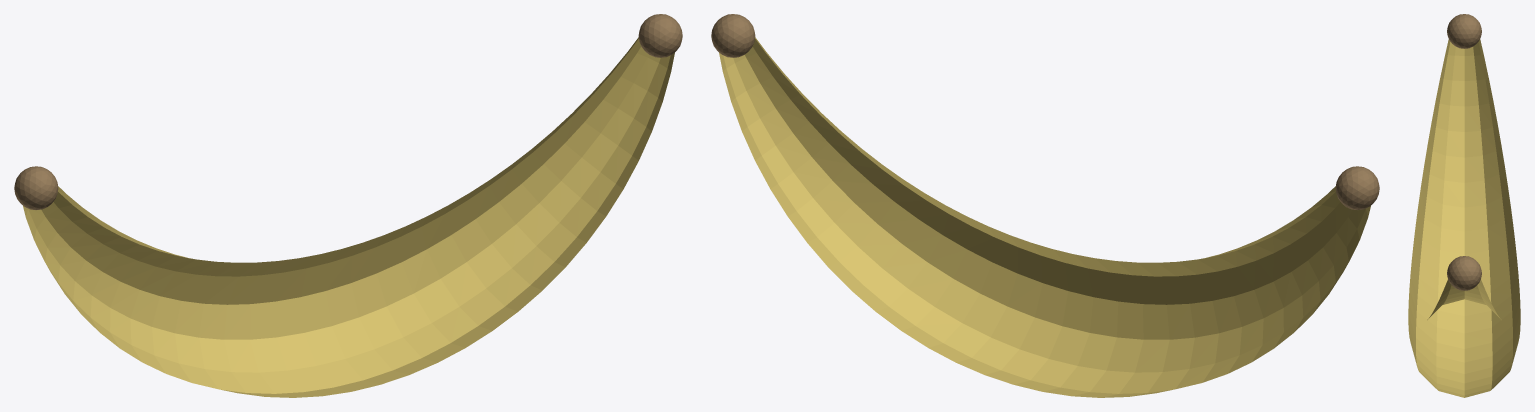
The model's file is banana-scale.glb.
3 views of the same model, side by side, from view 1: azimuth 30°, elevation 25°; view 2: azimuth 150°, elevation 25°; view 3: azimuth 270°, elevation 25° (orthographic). The views are drawn at different scales.
Visible parts, largest first — view 1: BananaBody, BananaTip_1, BananaTip_0; view 2: BananaBody, BananaTip_1, BananaTip_0; view 3: BananaBody, BananaTip_0, BananaTip_1.
Part boxes in pixels (bbox=[...]): BananaBody: bbox=[23, 37, 674, 397]; BananaTip_1: bbox=[638, 14, 682, 57]; BananaTip_0: bbox=[14, 166, 58, 209]; BananaBody: bbox=[719, 37, 1370, 397]; BananaTip_1: bbox=[711, 14, 755, 57]; BananaTip_0: bbox=[1335, 166, 1379, 209]; BananaBody: bbox=[1408, 39, 1520, 397]; BananaTip_0: bbox=[1447, 14, 1481, 48]; BananaTip_1: bbox=[1447, 256, 1481, 290].
Size of the model in its own units: 0.1731 by 0.0729 by 0.032.
